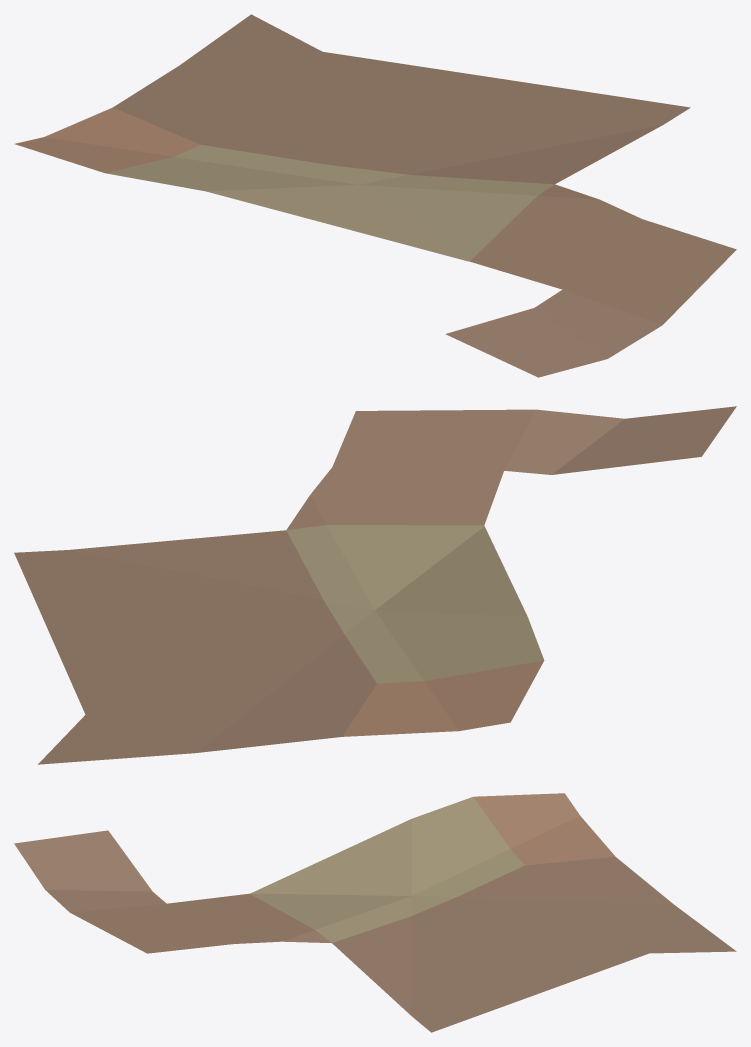
Rendered from farm_2_28_soil.glb.
The picture shows the model from 3 angles, top to bottom: view 1: azimuth 30°, elevation 25°; view 2: azimuth 150°, elevation 25°; view 3: azimuth 270°, elevation 25°; orthographic projection. The views are drawn at different scales.
Visible parts, largest first — view 1: geometry_0; view 2: geometry_0; view 3: geometry_0.
Boxes of the visible parts, box(x1,y1,x2,y2) form: geometry_0: box(15, 14, 736, 377); geometry_0: box(14, 406, 736, 764); geometry_0: box(14, 793, 736, 1032).
Size of the model in its own units: 81.12 by 6.88 by 118.
